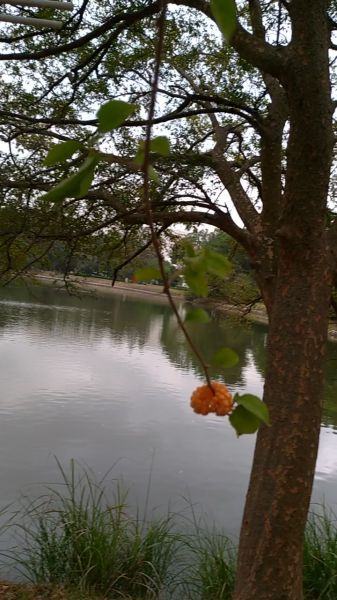eggs: (188, 379, 236, 419)
